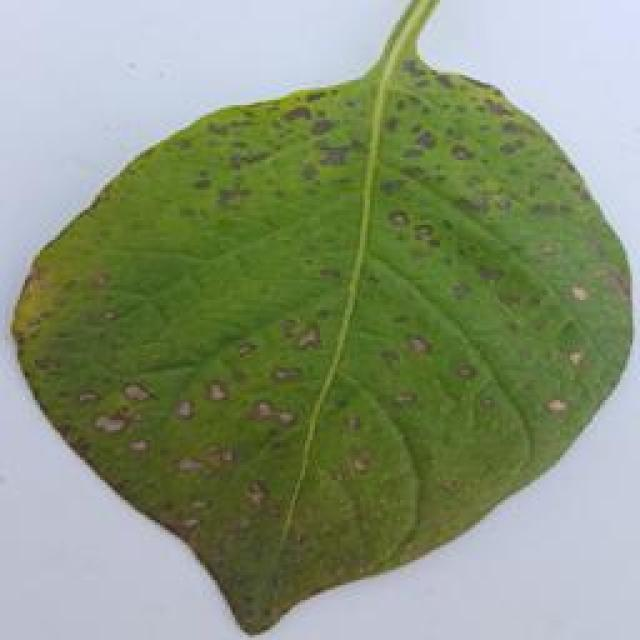Potato_Early_Blight: (7, 47, 640, 627)
